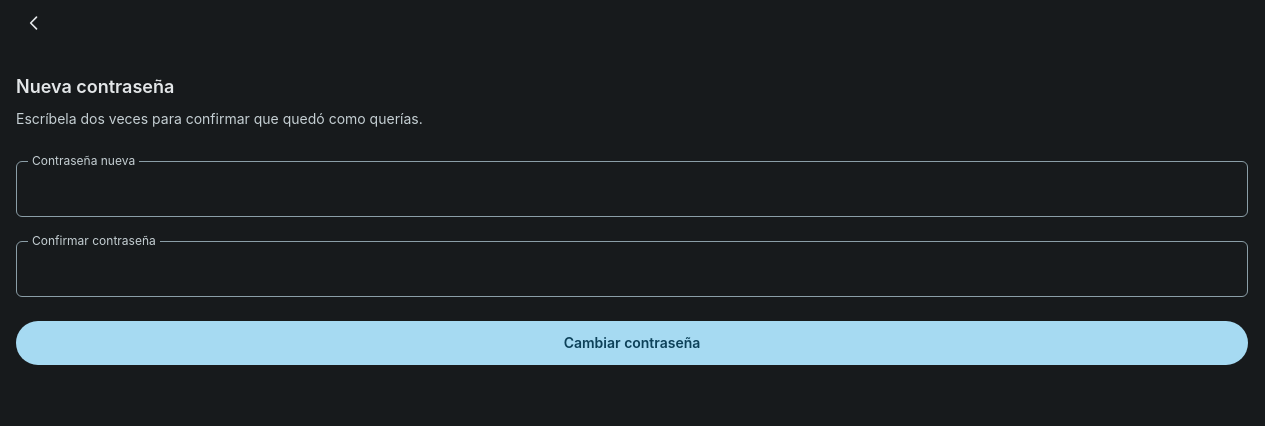
Scenario: ResetPassword › con 400 de validación muestra el mensaje del backend
Type "corta" into the password field labelled "Contraseña nueva".
click(632, 189); type("corta")  # box x1=16 y1=161 x2=1248 y2=217
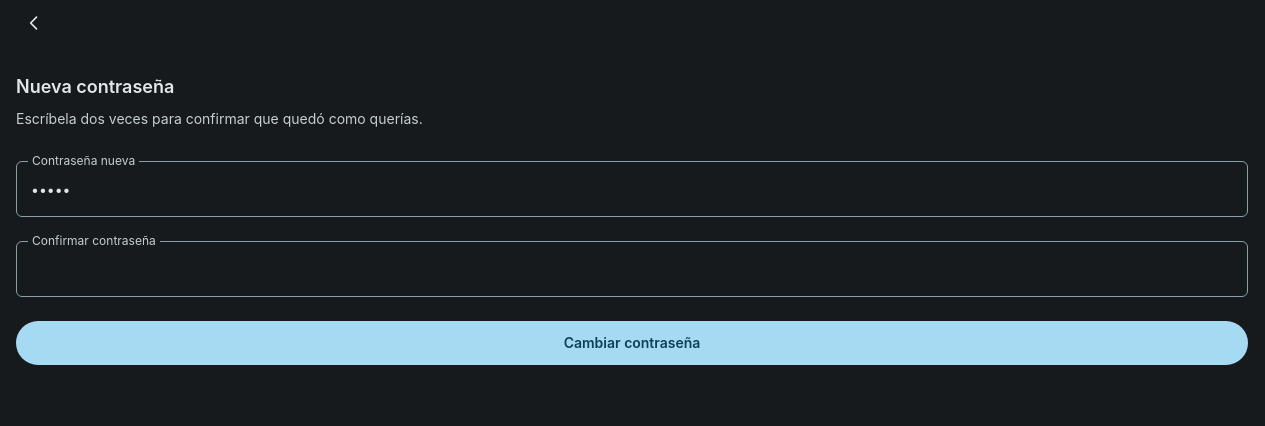
Type "corta" into the password field labelled "Confirmar contraseña".
click(632, 269); type("corta")  # box x1=16 y1=241 x2=1248 y2=297
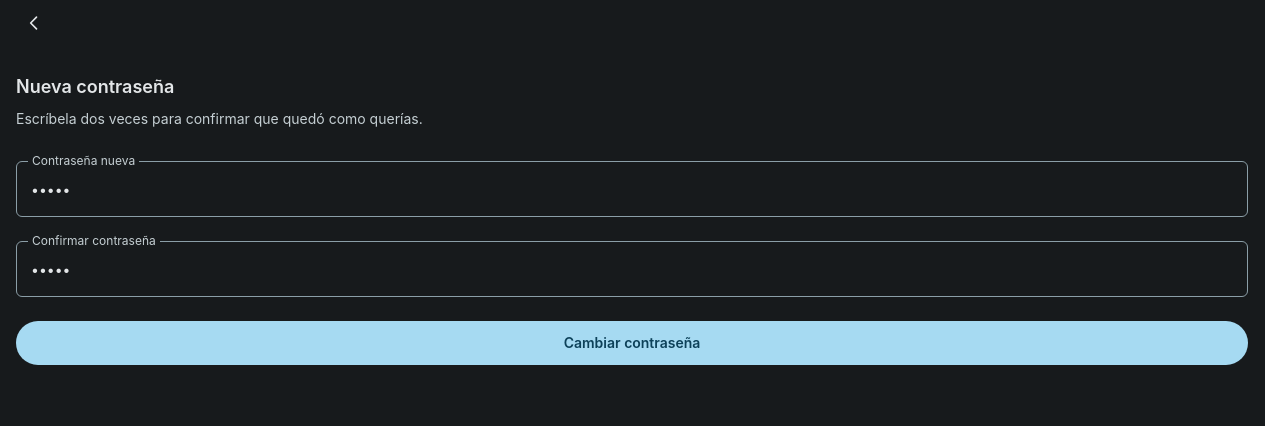
Click the button "Cambiar contraseña".
click(632, 343)  # box x1=16 y1=321 x2=1248 y2=365
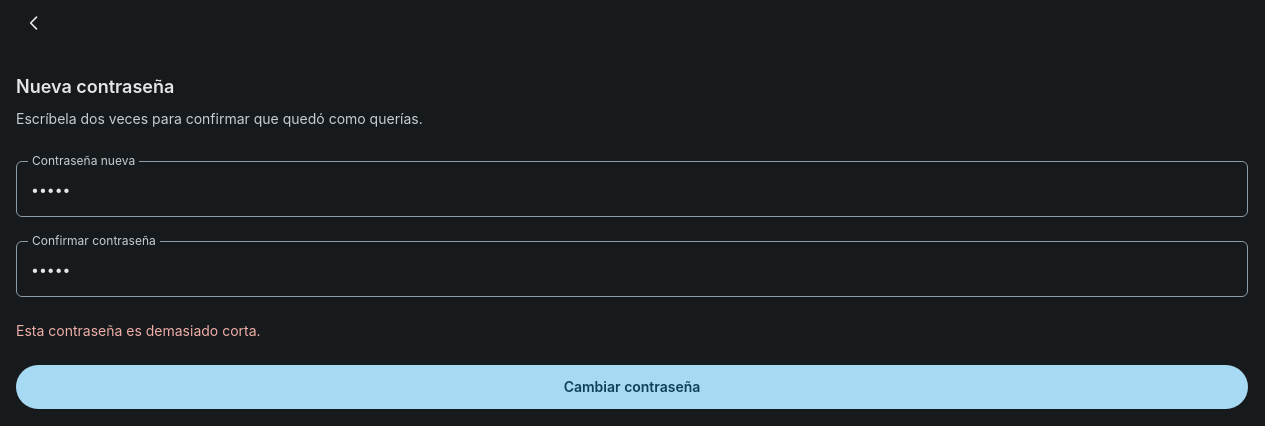
Now the message reads "Esta contraseña es demasiado corta.", box x1=16 y1=322 x2=261 y2=339
